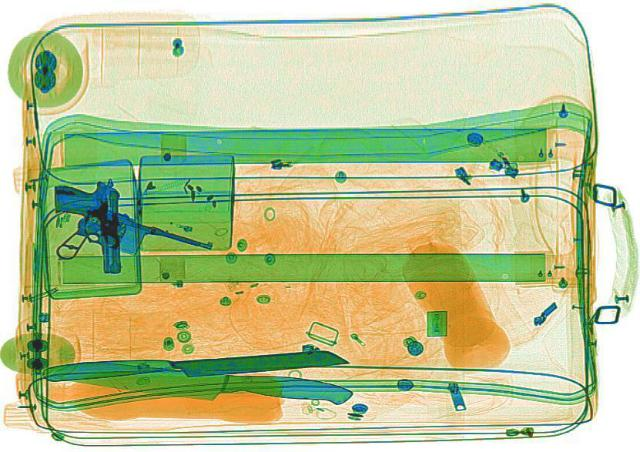Gun: (50, 201, 218, 287), (35, 172, 135, 276)
Knife: (42, 354, 354, 405), (35, 343, 348, 386)
